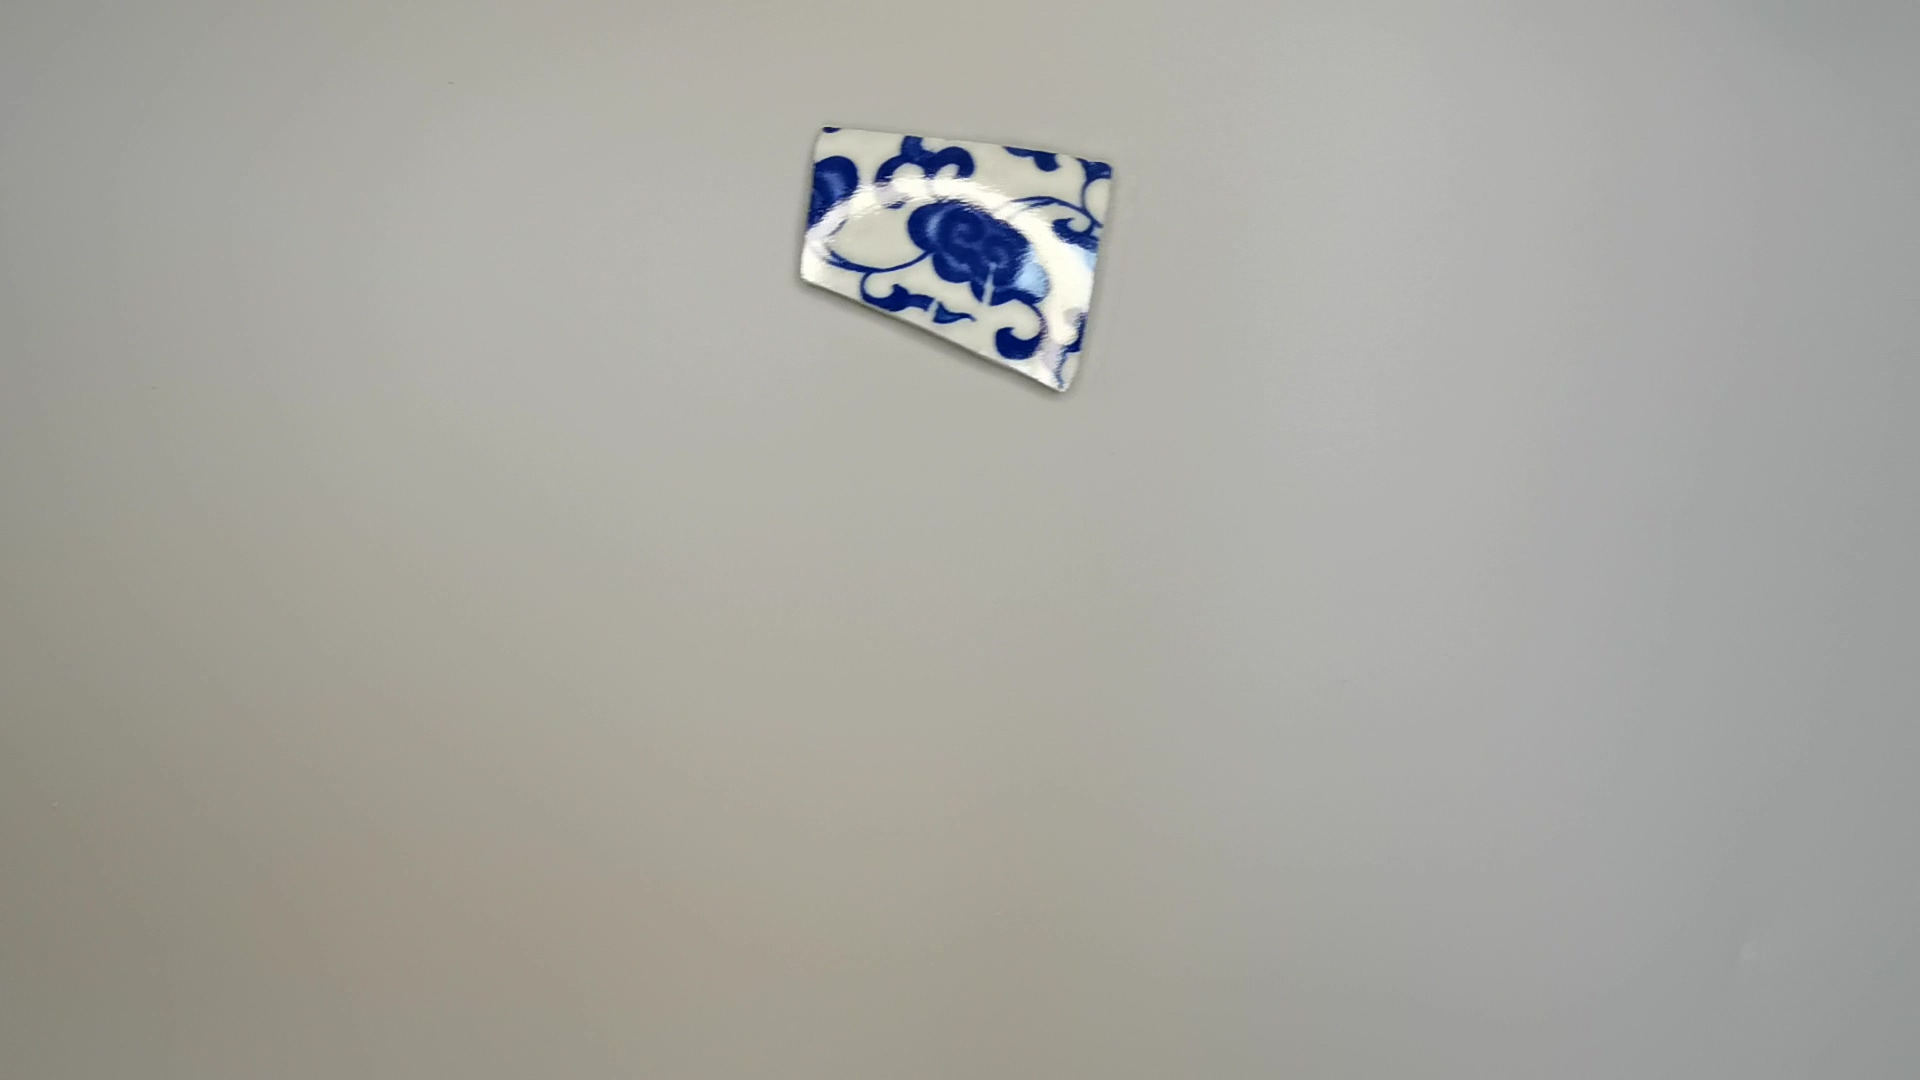ceramic: (791, 123, 1127, 401)
